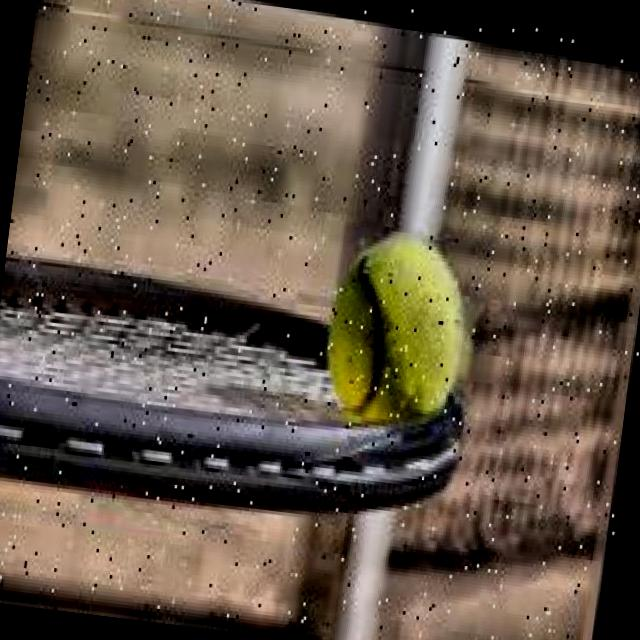Tennis Ball: (319, 218, 488, 442)
